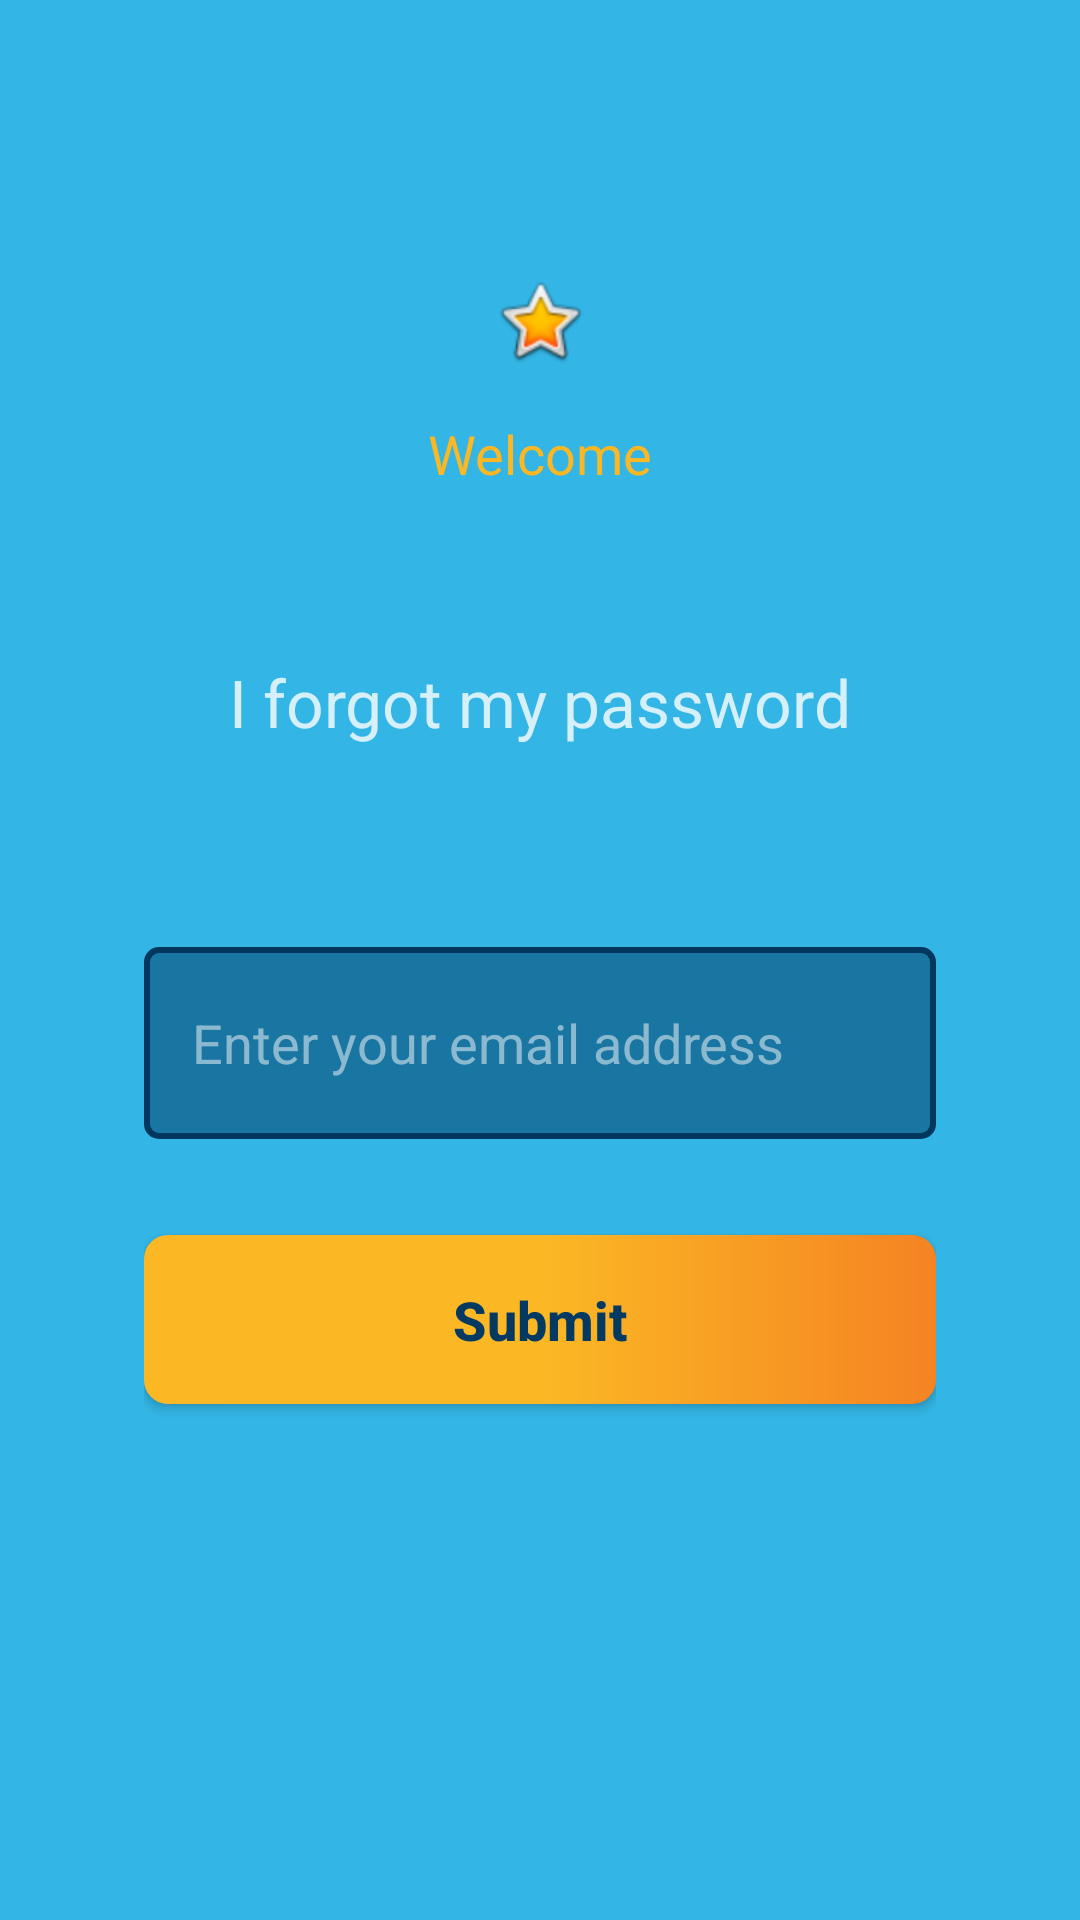

Named icons in this screenshot (1080 x 1920) and their bounding boxes, [x1, y1, x2, y2]:
star on: [501, 283, 581, 361]
